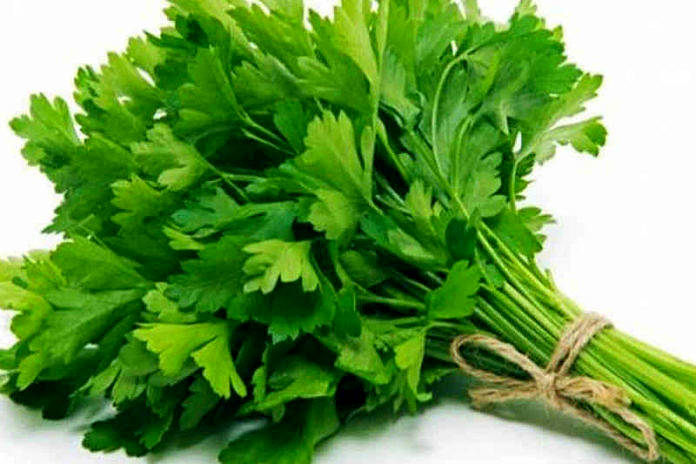Seledri: (30, 40, 686, 450)
